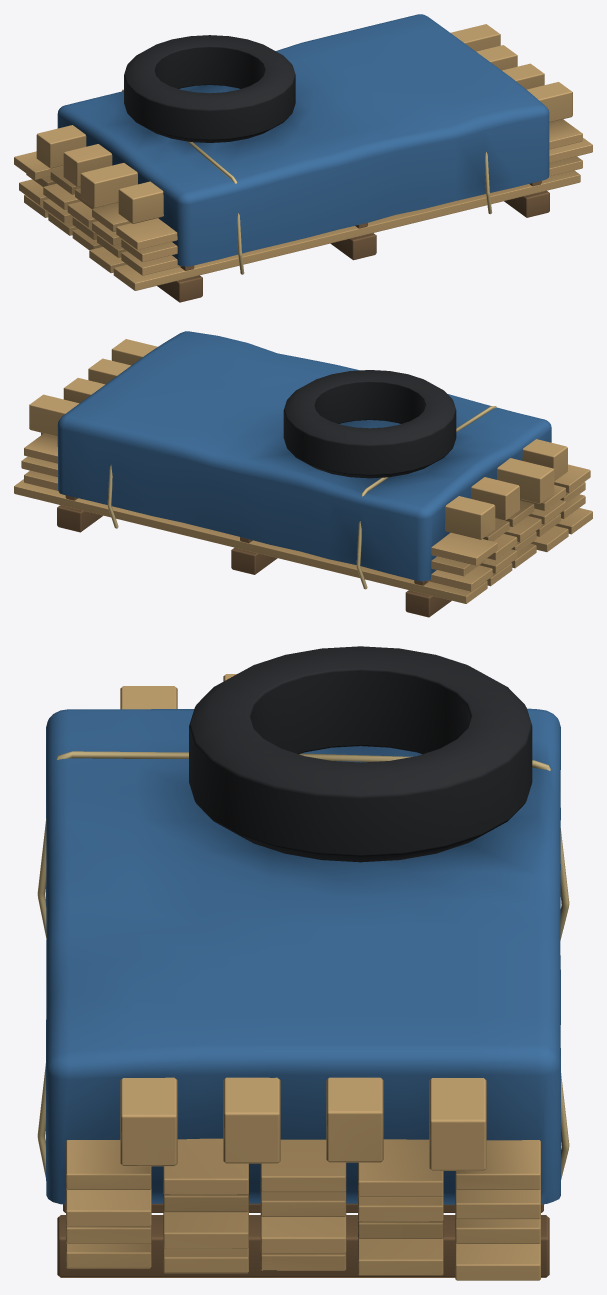
The model's file is timberStack.glb.
3 renders of one model, top to bottom at view 1: azimuth 30°, elevation 25°; view 2: azimuth 150°, elevation 25°; view 3: azimuth 270°, elevation 25°, orthographic. The views are drawn at different scales.
Parts seen in each view (by area): view 1: timberStack; view 2: timberStack; view 3: timberStack.
Part boxes in pixels (x1,y1,x2,y2): timberStack: (14, 14, 592, 302); timberStack: (14, 331, 592, 617); timberStack: (37, 646, 569, 1280).
Size of the model in its own units: 1.86 by 0.598 by 0.9286.
